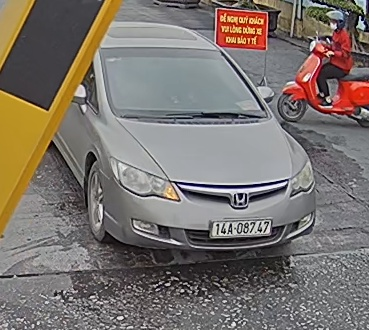vehicle plate: (208, 217, 274, 239)
